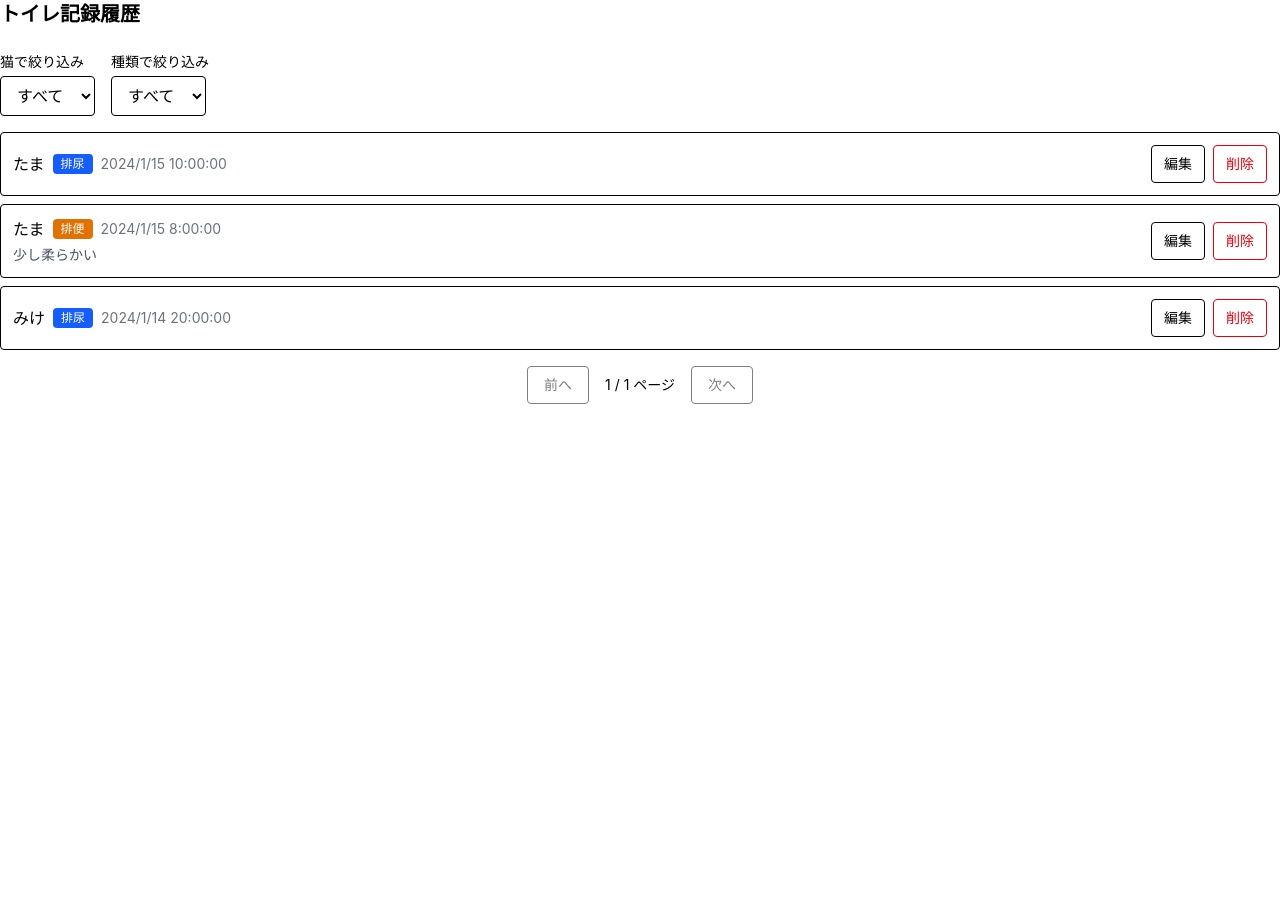
Test: HistoryPage › should show delete confirmation dialog
Click the button "削除" in the row of "2024/1/15 10:00:00" at (1240, 164), box [1213, 145, 1267, 183]
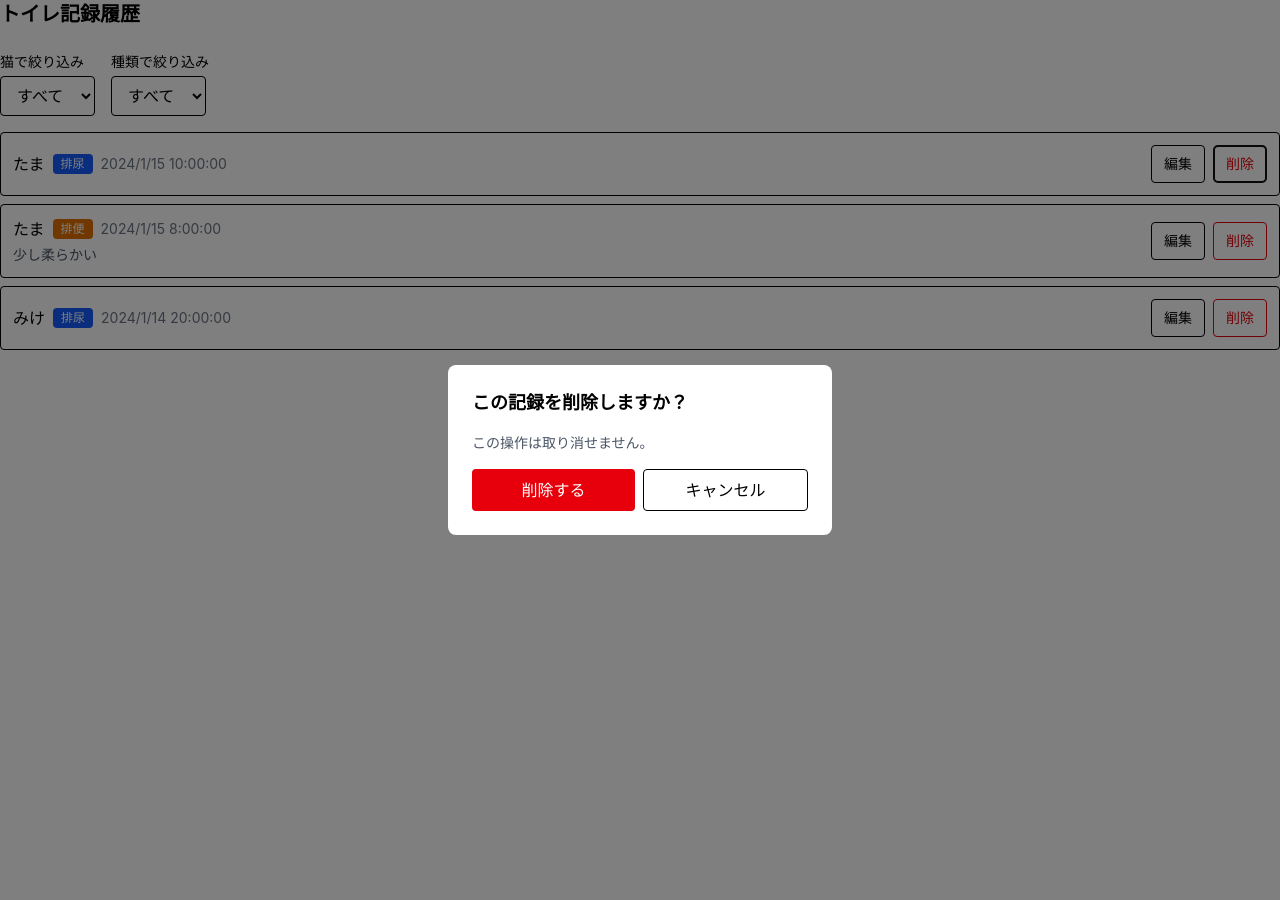
Check: the heading "この記録を削除しますか？" is shown, box [472, 392, 688, 413]
